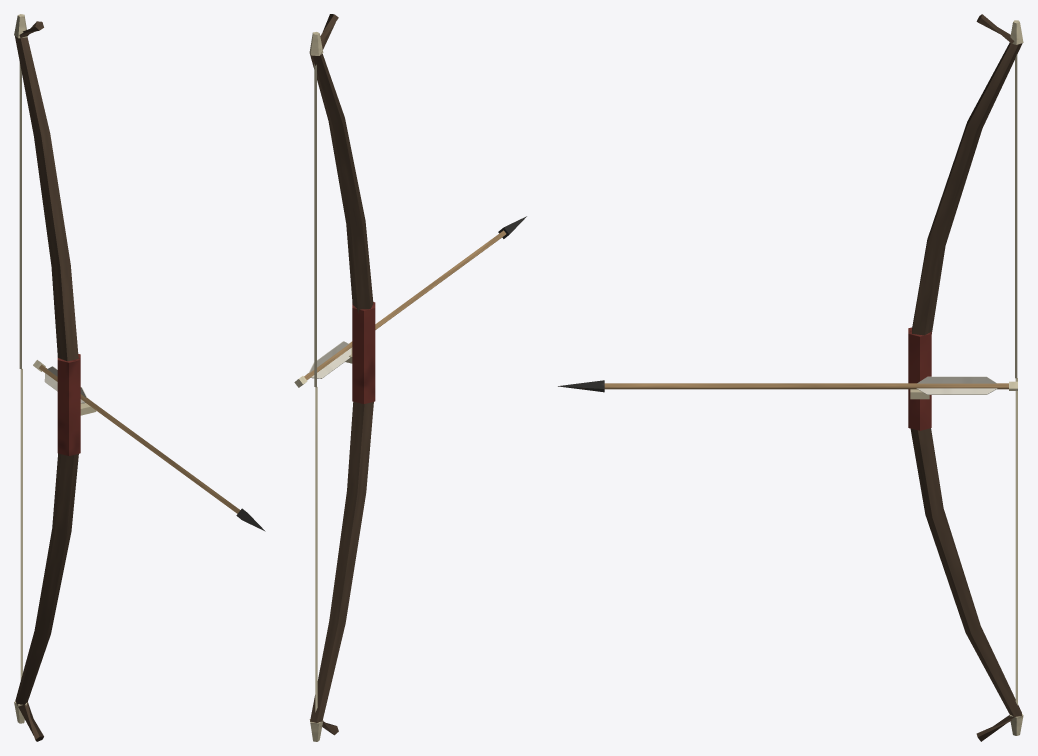
Rendered from short_bow.obj.
The picture shows the model from 3 angles, left to right: view 1: azimuth 30°, elevation 25°; view 2: azimuth 150°, elevation 25°; view 3: azimuth 270°, elevation 25°; orthographic projection.
Visible parts, largest first — view 1: short_bow_limb_up, short_bow_limb_down, short_bow, short_bow_arrow, short_bow_string_down, short_bow_string_up; view 2: short_bow_limb_down, short_bow_limb_up, short_bow, short_bow_arrow, short_bow_string_down, short_bow_string_up; view 3: short_bow_limb_up, short_bow_limb_down, short_bow_arrow, short_bow, short_bow_string_up, short_bow_string_down.
Part boxes in pixels (x1,y1,x2,y2): short_bow_limb_up: (14,14,78,361); short_bow_limb_down: (14,453,78,741); short_bow: (57,354,96,455); short_bow_arrow: (33,360,265,531); short_bow_string_down: (20,368,22,680); short_bow_string_up: (19,62,21,369); short_bow_limb_down: (309,401,373,741); short_bow_limb_up: (309,14,373,313); short_bow: (345,302,375,403); short_bow_arrow: (294,216,526,387); short_bow_string_down: (315,387,317,712); short_bow_string_up: (314,64,316,387); short_bow_limb_up: (912,14,1023,335); short_bow_limb_down: (910,428,1023,741); short_bow_arrow: (558,376,1017,394); short_bow: (908,327,931,430); short_bow_string_up: (1015,53,1017,378); short_bow_string_down: (1015,378,1017,705).
Bounding box in the file's own units: 0.0564 × 1.08 × 0.6295.
1 material, 1 textured.
